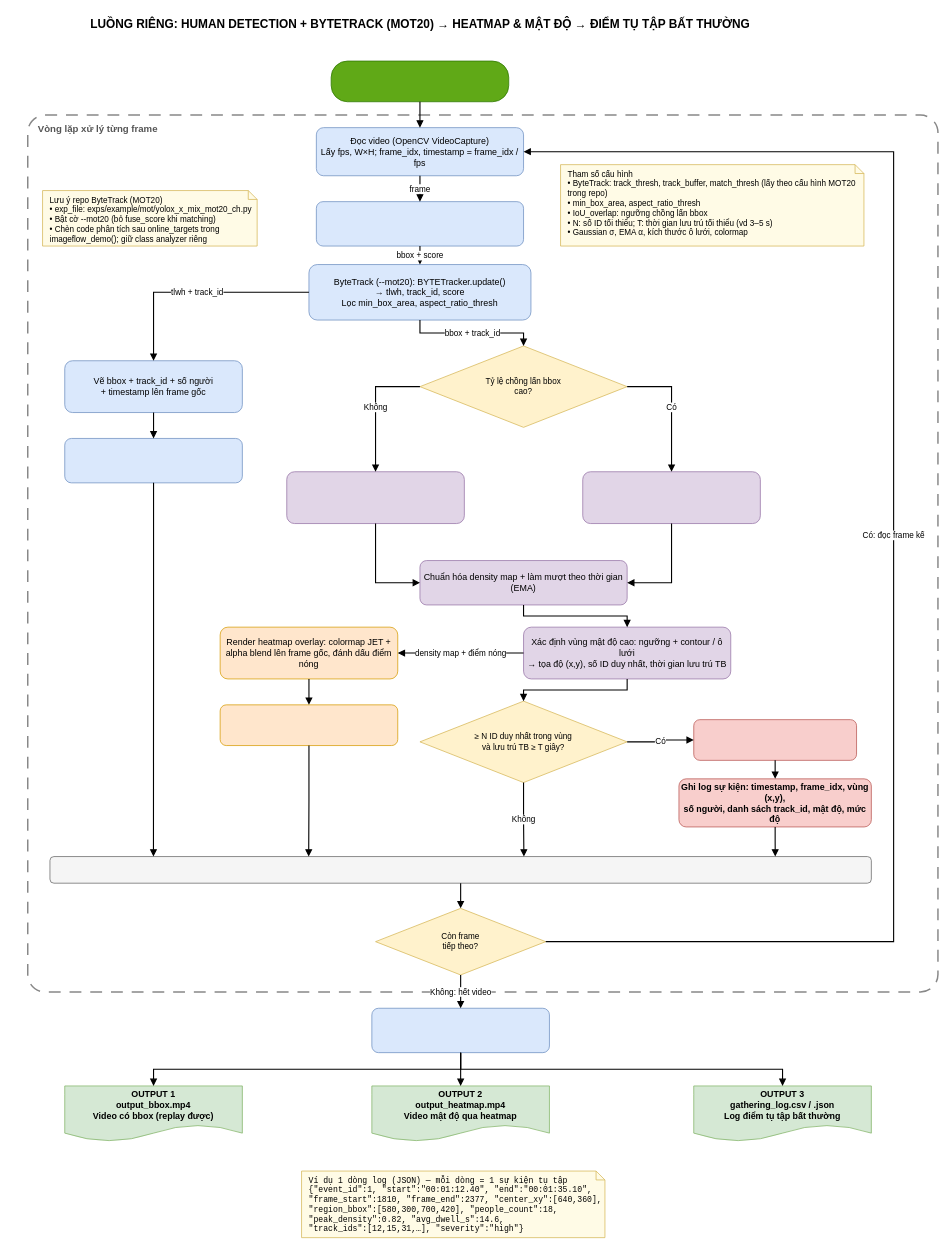
Image size: 951x1251. Some labels were removed from this diagram. Each missing label, with the centre of its shape:
"Cảnh báo: Tụ tập bất thường" belongs at (775,739).
"Density Map Model (CSRNet / DM-Count…)" belongs at (671,497).
"Dựng heatmap từ điểm chân (x+w/2, y+h), Gaussian kernel, cộng dồn" belongs at (375,497).
"Human Detection Model YOLOX-X (mix_mot20_ch) → bbox + score" belongs at (420,223).
"Input Video file (.mp4/.avi) hoặc Camera/RTSP" belongs at (419,81).
"Kết thúc xử lý frame hiện tại" belongs at (460,869).
"VideoWriter #1 Ghi frame có bbox" belongs at (153,460).
"VideoWriter #2 Ghi frame heatmap" belongs at (308,725).
"Đóng VideoWriter #1, #2 Flush & đóng file log" belongs at (460,1030).
